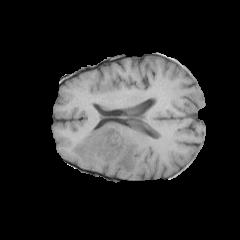glioma: (71, 123, 139, 173)
